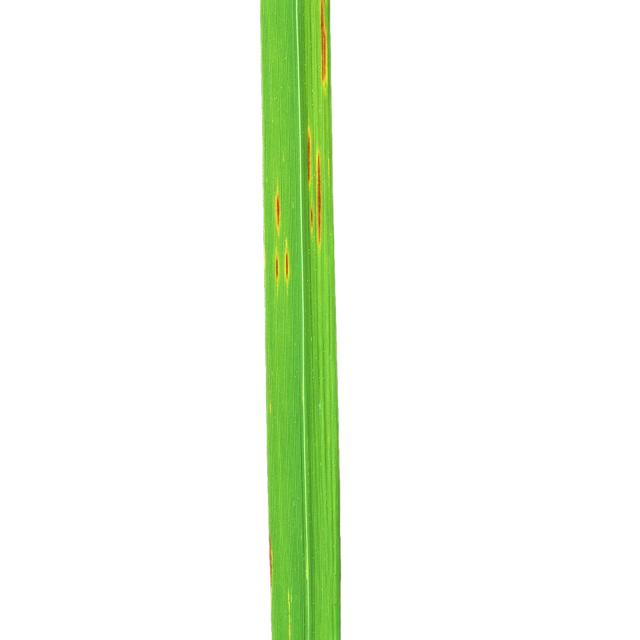Narrow brown: (188, 0, 428, 640)
